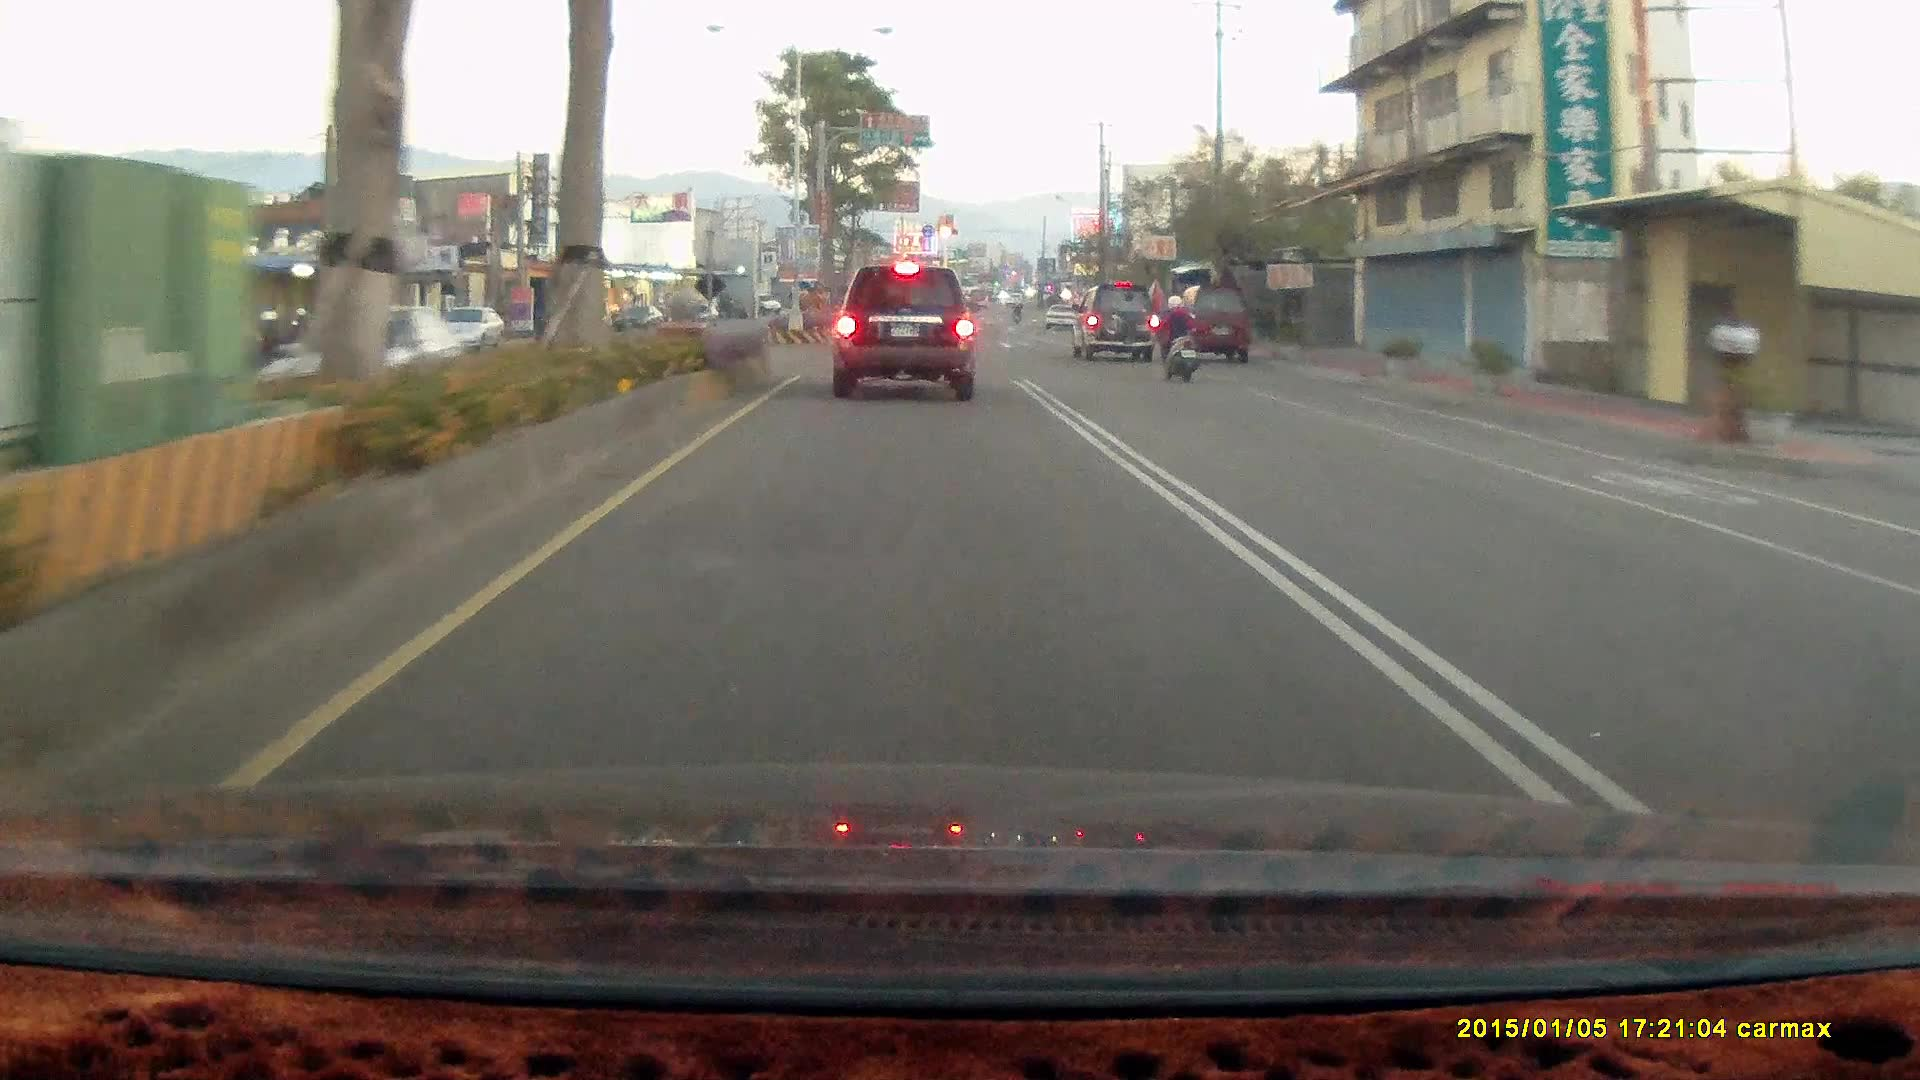rider: (1146, 287, 1207, 389), (1146, 290, 1197, 380)
vehicle: (831, 256, 983, 408), (831, 265, 977, 401), (1076, 281, 1167, 364), (1066, 279, 1156, 358), (1173, 281, 1254, 367), (1175, 280, 1250, 359), (431, 303, 507, 348)
